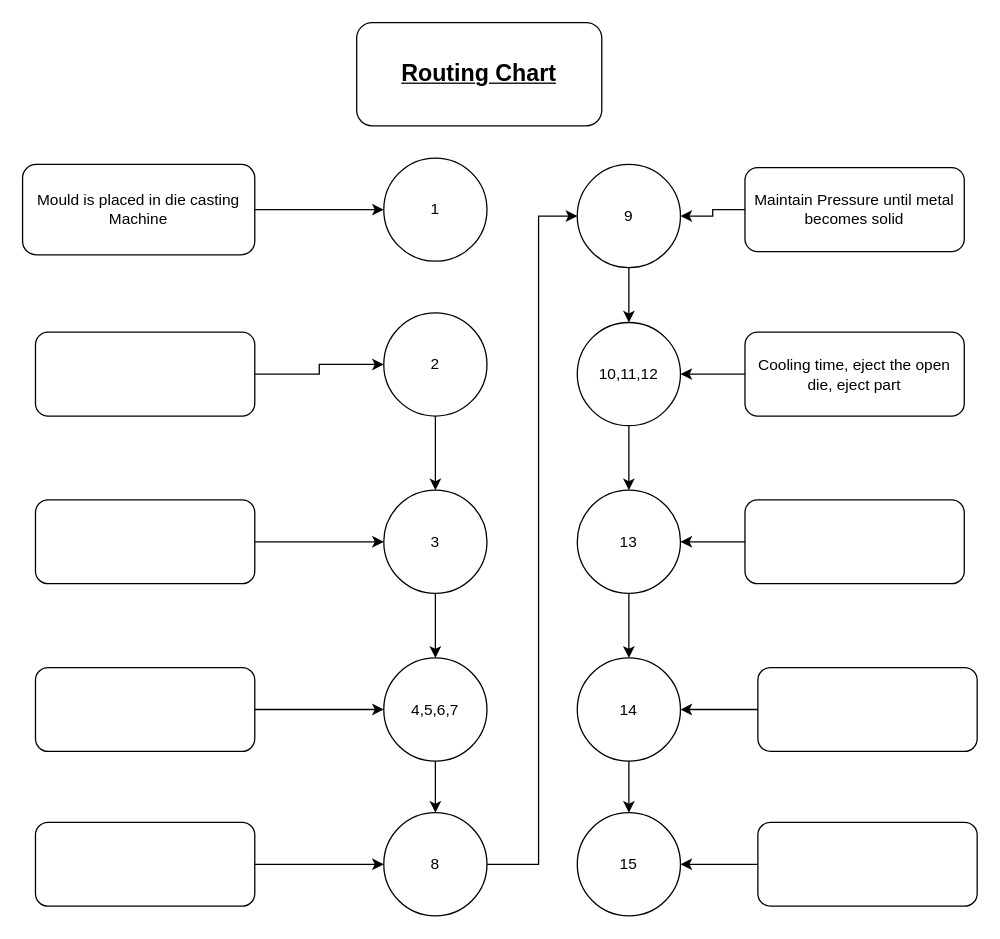
Some shapes in this 1000 by 939 pixel diagram are drawn without their labels. The centre of each missing label's shape, as x and y in pixels:
Apply the molten metal to create the mould: (x=144, y=541)
Apply the molten metal to the machine: (x=144, y=863)
Clamp the half dies together: (x=144, y=373)
Cooling time, eject the mould,prepare the half dies clamp halves together: (x=144, y=708)
Sweeping pass is applied to improve finish of surface: (x=867, y=863)
The holes and surfaces are cleaned: (x=867, y=708)
Trim excess metal - prepare for reuse, Prepare half dies to repeat: (x=854, y=541)
